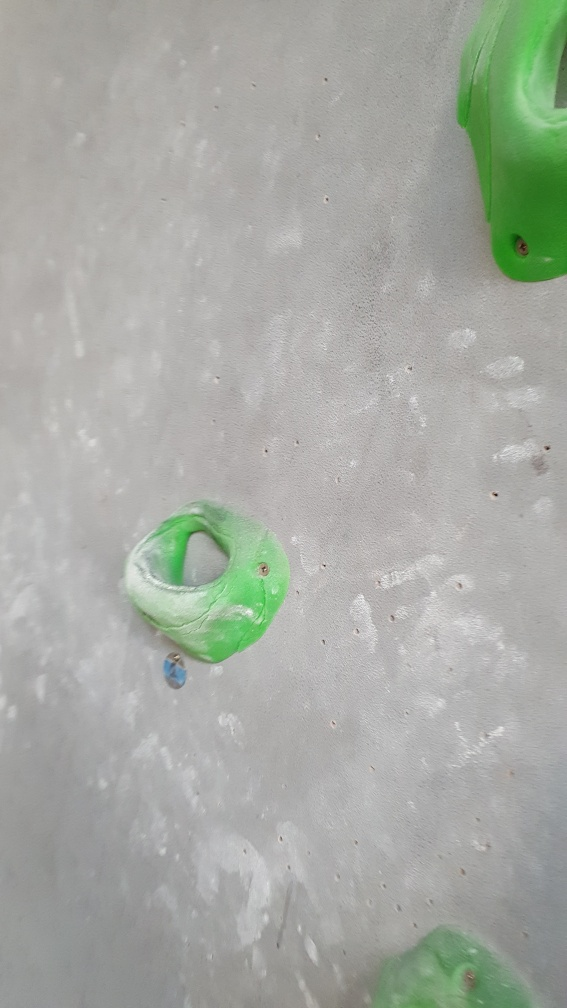Hand Start: (162, 650, 190, 697)
Pocket: (119, 497, 295, 664)
